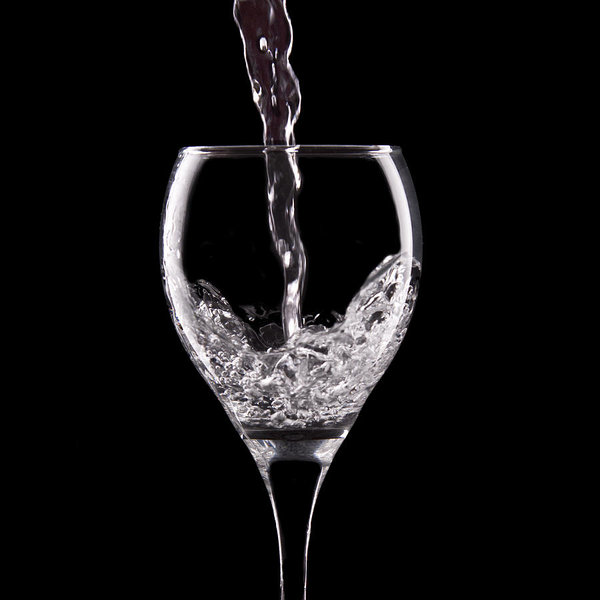glass of water: (192, 157, 387, 522)
